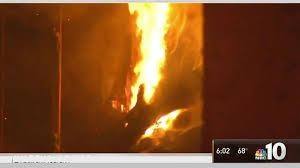fire: (127, 2, 172, 108), (139, 107, 184, 140)
